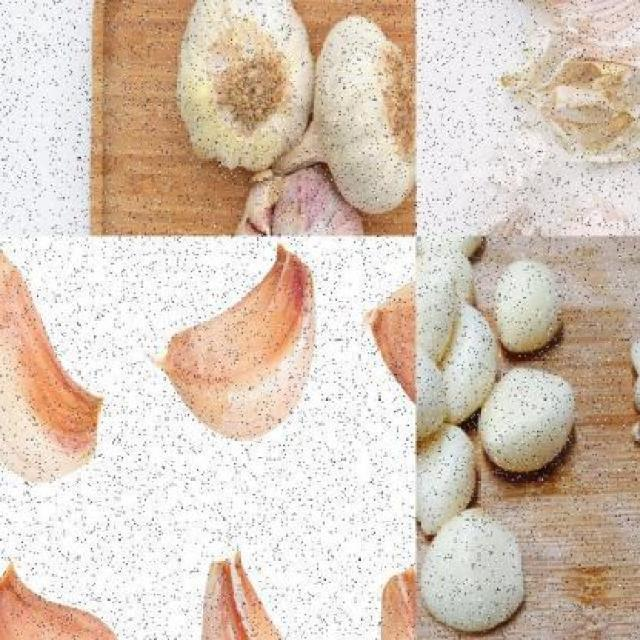garlic: (416, 236, 578, 639), (146, 243, 317, 440), (172, 0, 317, 177), (0, 243, 105, 486), (312, 12, 416, 220), (198, 546, 332, 640), (0, 554, 143, 638), (480, 365, 580, 478), (364, 270, 416, 472), (230, 168, 367, 235), (495, 256, 571, 358)
